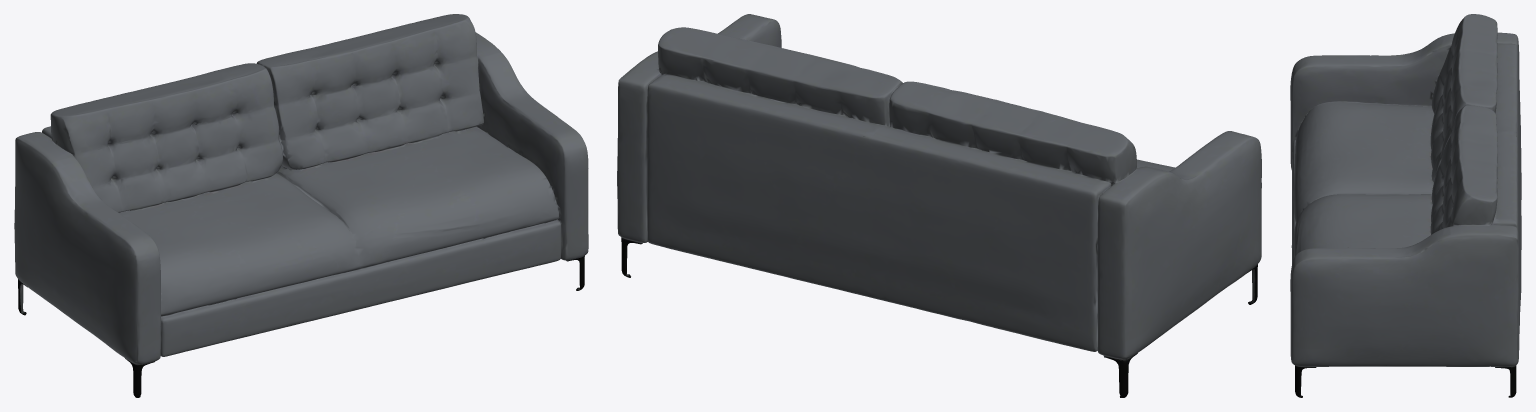
3 renders of one model, left to right at view 1: azimuth 30°, elevation 25°; view 2: azimuth 150°, elevation 25°; view 3: azimuth 270°, elevation 25°, orthographic. The views are drawn at different scales.
Visible parts, largest first — view 1: tripo_node_a0da53c0-c174-4b00-b15a-59d7706493b3; view 2: tripo_node_a0da53c0-c174-4b00-b15a-59d7706493b3; view 3: tripo_node_a0da53c0-c174-4b00-b15a-59d7706493b3.
Boxes of the visible parts, box(x1,y1,x2,y2) form: tripo_node_a0da53c0-c174-4b00-b15a-59d7706493b3: box(14, 14, 588, 397); tripo_node_a0da53c0-c174-4b00-b15a-59d7706493b3: box(617, 14, 1261, 397); tripo_node_a0da53c0-c174-4b00-b15a-59d7706493b3: box(1290, 14, 1521, 397).
Bounding box in the file's own units: 2.05 × 0.88 × 0.9465.
1 material, 1 textured.
